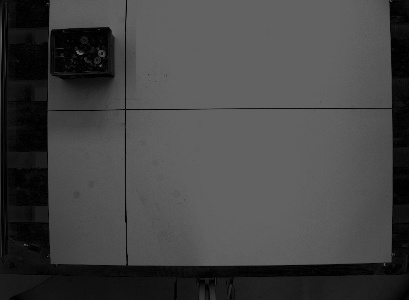klts: (46, 23, 119, 82)
